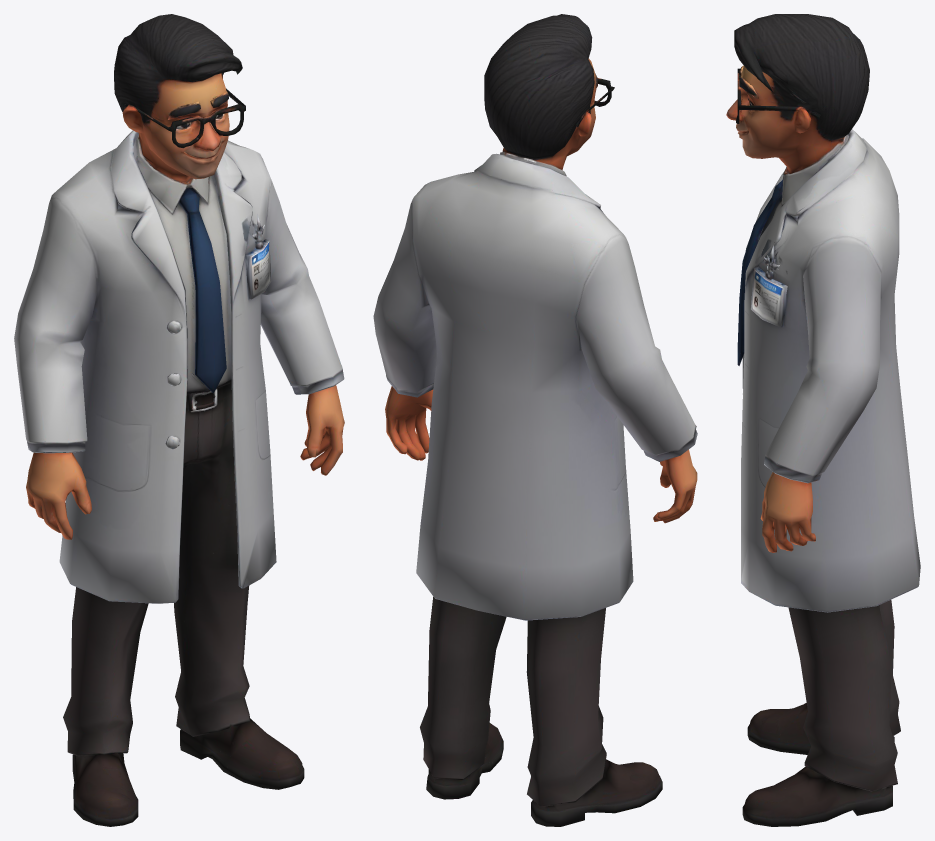
3 renders of one model, left to right at view 1: azimuth 30°, elevation 25°; view 2: azimuth 150°, elevation 25°; view 3: azimuth 270°, elevation 25°, orthographic.
Parts seen in each view (by area): view 1: tripo_node_f8ba8fbf-847c-4ed3-8f76-ced9d40e9585; view 2: tripo_node_f8ba8fbf-847c-4ed3-8f76-ced9d40e9585; view 3: tripo_node_f8ba8fbf-847c-4ed3-8f76-ced9d40e9585.
Boxes of the visible parts, box(x1,y1,x2,y2) form: tripo_node_f8ba8fbf-847c-4ed3-8f76-ced9d40e9585: box(14, 14, 344, 826); tripo_node_f8ba8fbf-847c-4ed3-8f76-ced9d40e9585: box(373, 14, 697, 826); tripo_node_f8ba8fbf-847c-4ed3-8f76-ced9d40e9585: box(726, 14, 920, 826).
Size of the model in its own units: 0.4238 by 0.998 by 0.2324.
1 material, 1 textured.
